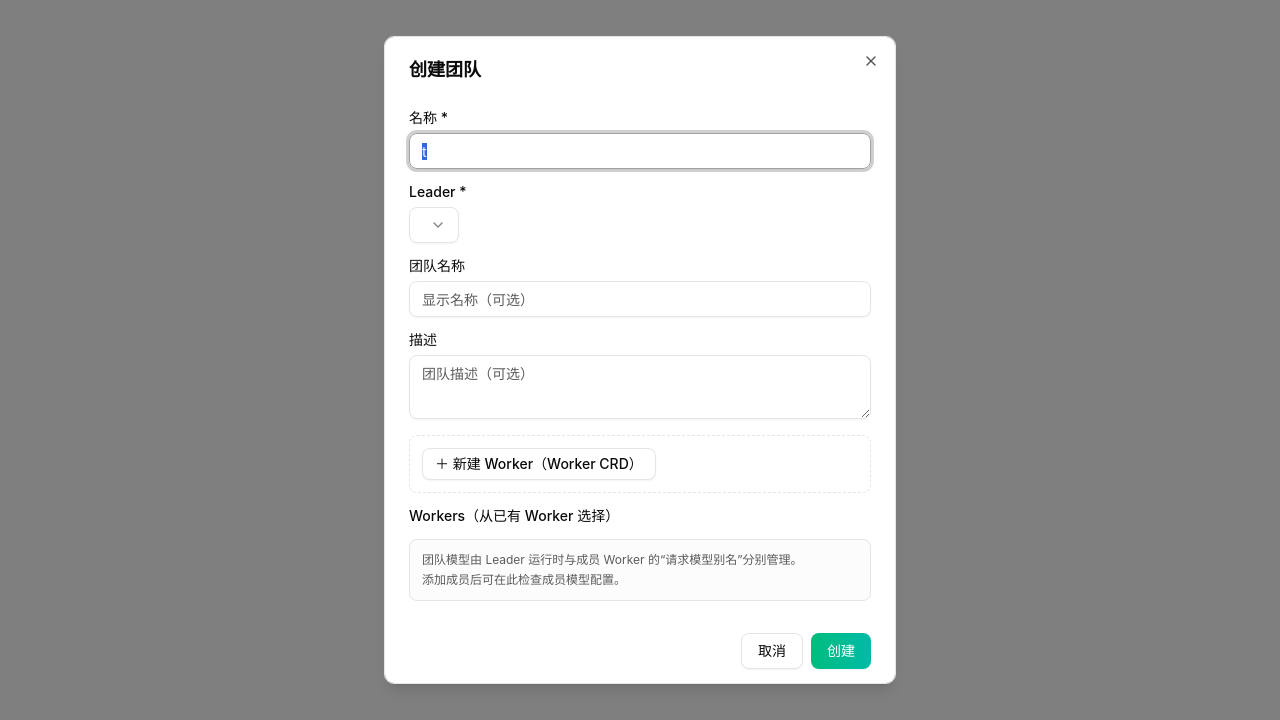
Test: TeamCreateDialog 内联新建 Worker（9/13 装验反馈：参考插件） › 名字已存在为 Worker → 按钮禁用（请从列表选择）
Click the button "＋ 新建 Worker（Worker CRD）".
click(539, 464)  # box [422, 448, 656, 480]
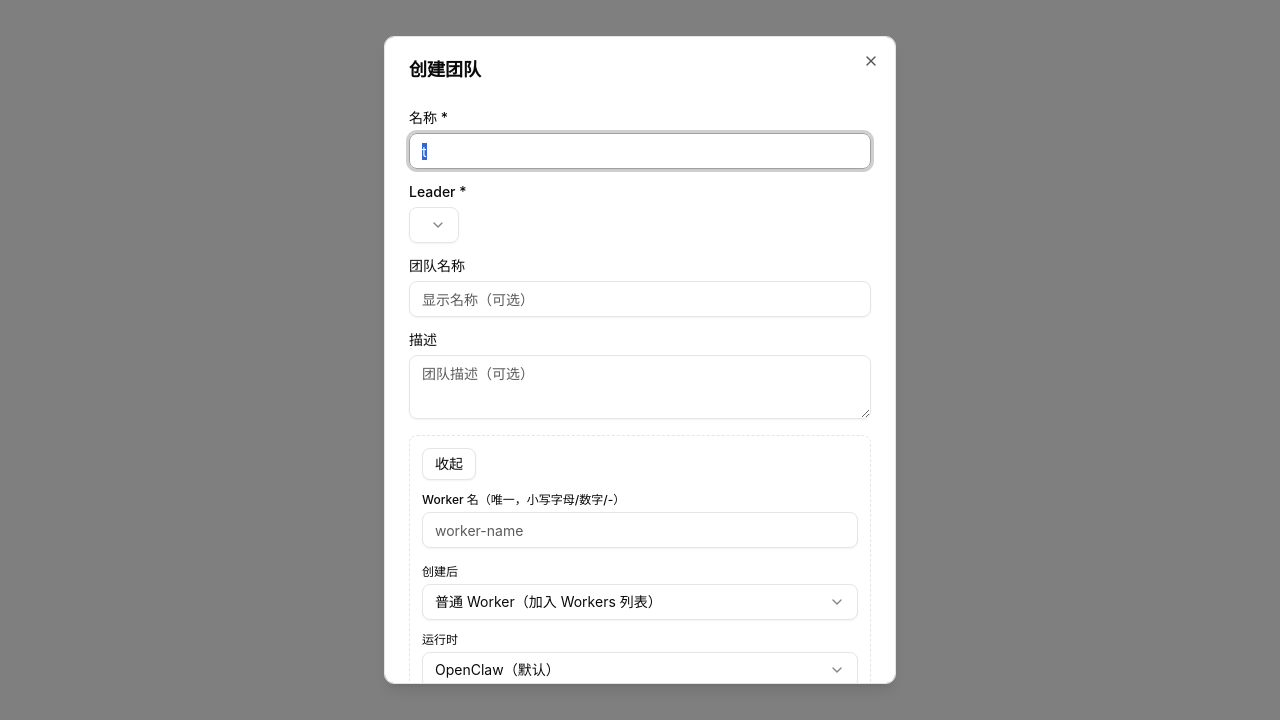
Type "existing-w" into the field with placeholder "worker-name".
click(640, 530); type("existing-w")  # box [422, 512, 858, 548]
(page scrolled)
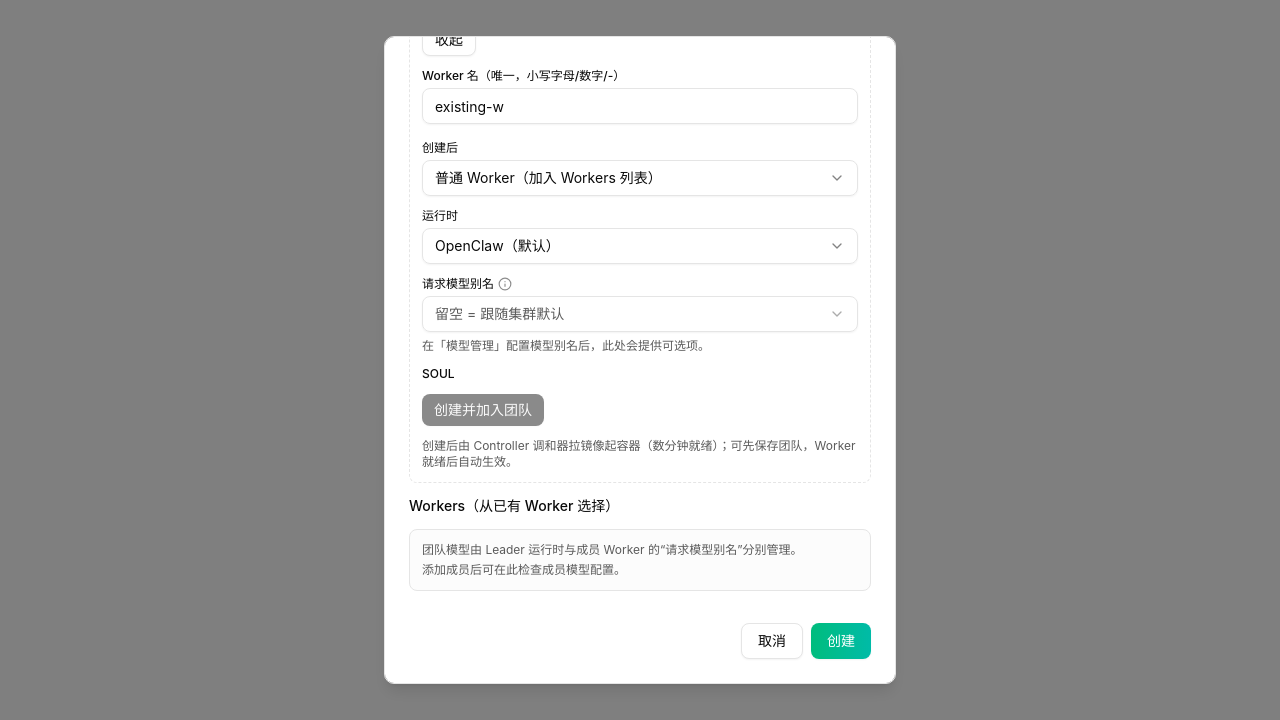
Now the button "创建并加入团队" is disabled, box [422, 394, 544, 426]
